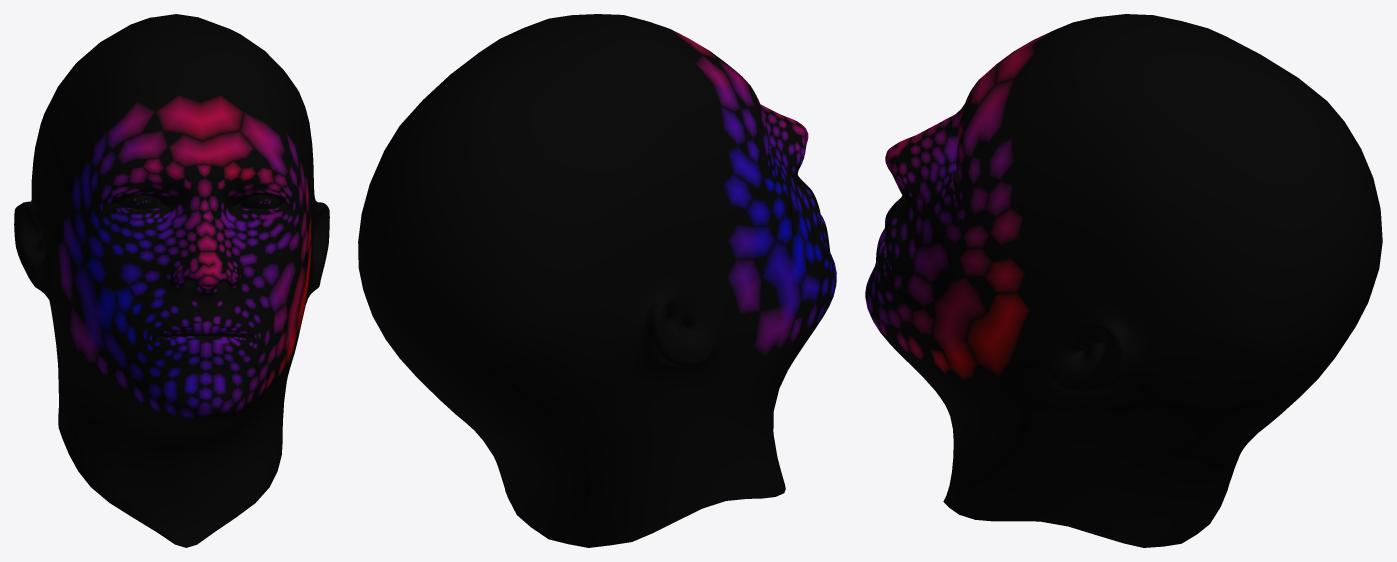
Rendered from colored_samir.obj.
3 renders of one model, left to right at view 1: azimuth 30°, elevation 25°; view 2: azimuth 150°, elevation 25°; view 3: azimuth 270°, elevation 25°, orthographic. The views are drawn at different scales.
Size of the model in its own units: 0.9134 by 1.36 by 1.25.
